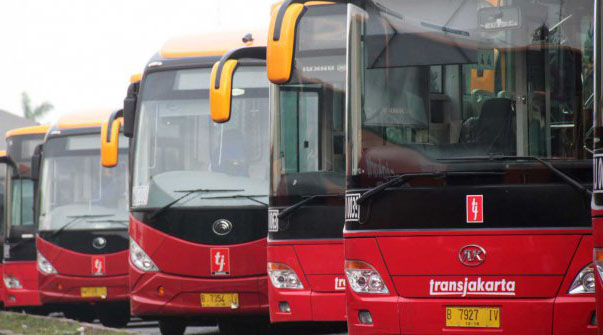plate: (446, 305, 501, 329)
